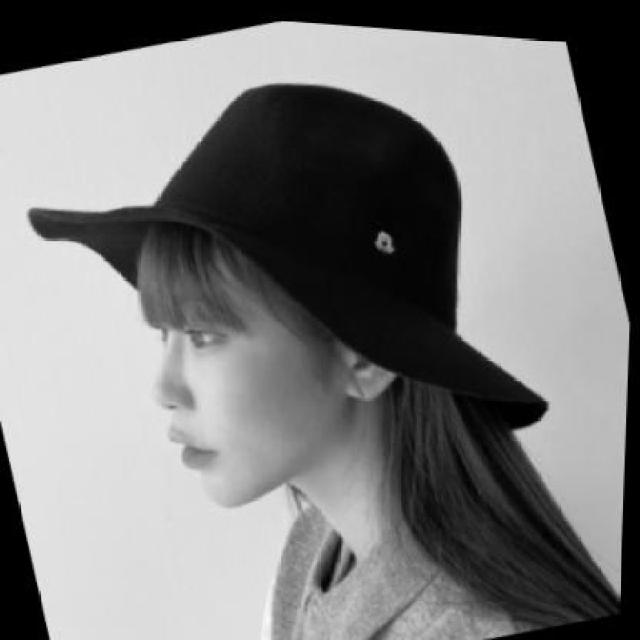hat: (31, 75, 551, 422)
